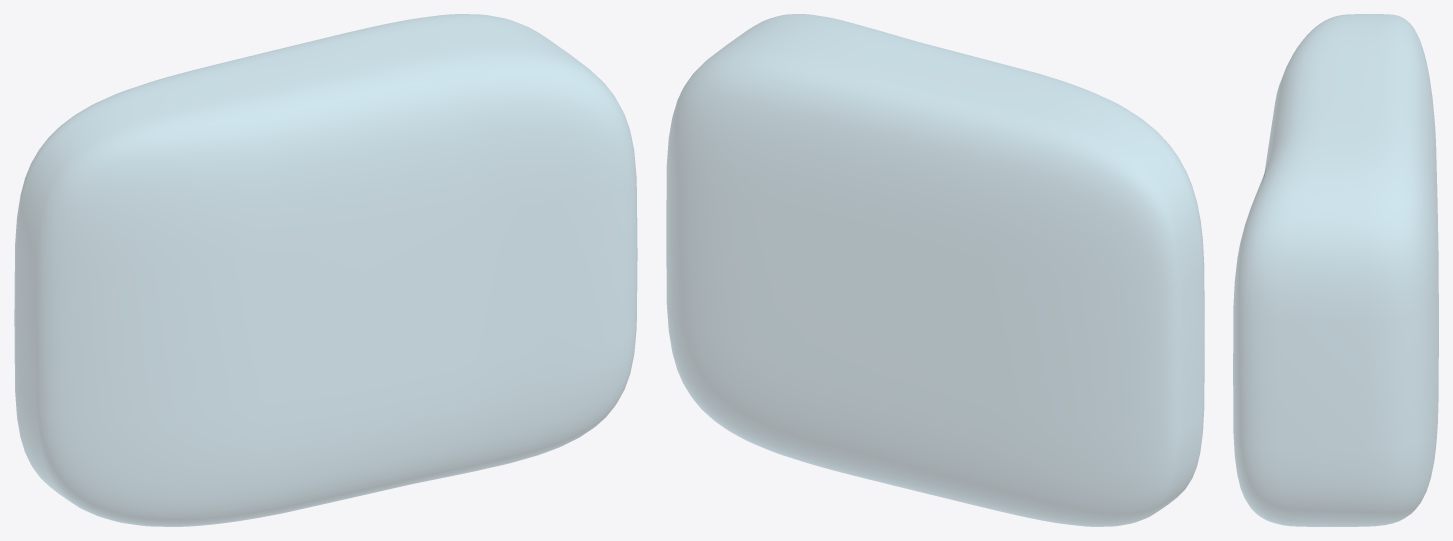
3 views of the same model, side by side, from view 1: azimuth 30°, elevation 25°; view 2: azimuth 150°, elevation 25°; view 3: azimuth 270°, elevation 25° (orthographic). The views are drawn at different scales.
Visible parts, largest first — view 1: gel-body; view 2: gel-body; view 3: gel-body.
Boxes of the visible parts, x1=… form: gel-body: x1=14, y1=14, x2=637, y2=526; gel-body: x1=666, y1=14, x2=1204, y2=526; gel-body: x1=1233, y1=14, x2=1438, y2=526.
Bounding box in the file's own units: 1.88 × 1.38 × 0.7068.
